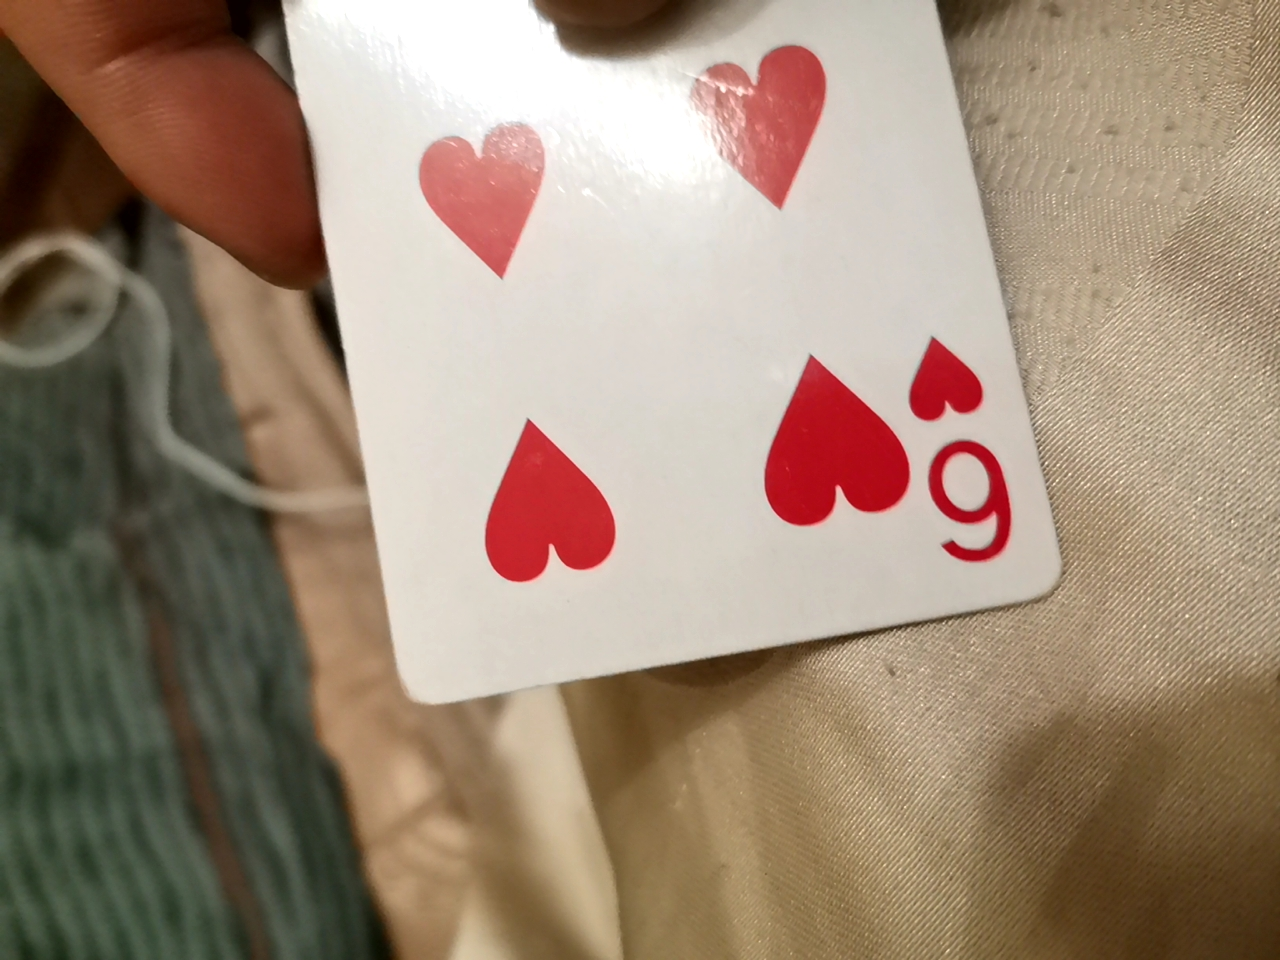hx 6: (227, 0, 1053, 728)
